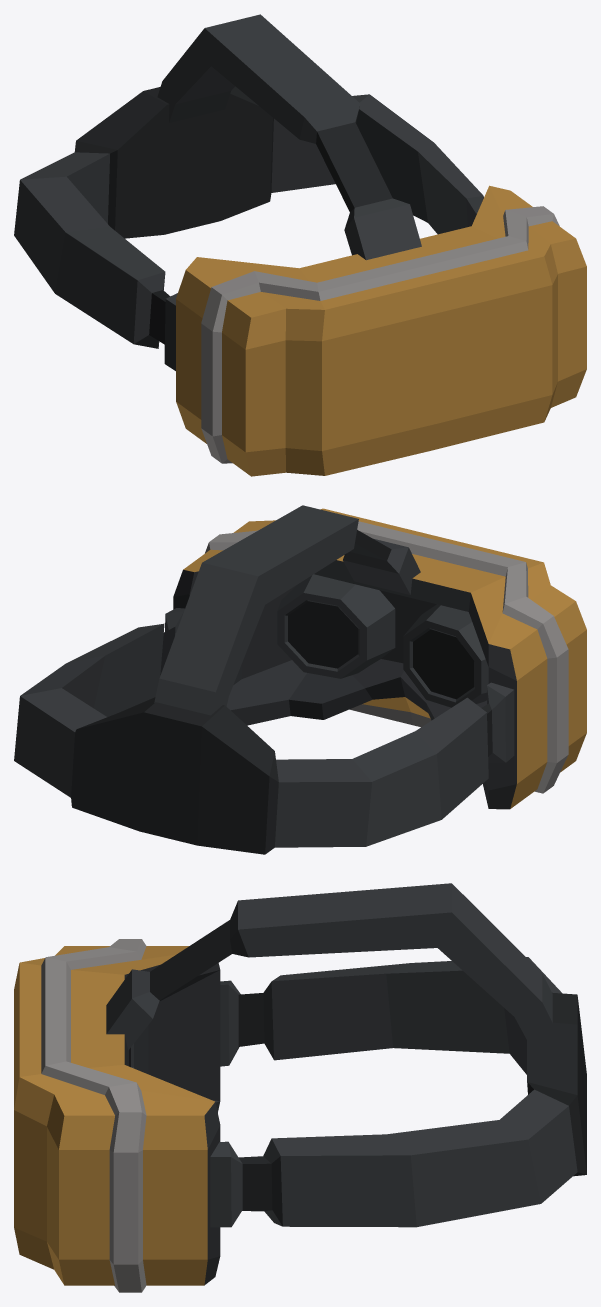
File: SM_Prop_VR_Headset_01.fbx
3 renders of one model, top to bottom at view 1: azimuth 30°, elevation 25°; view 2: azimuth 150°, elevation 25°; view 3: azimuth 270°, elevation 25°, orthographic. The views are drawn at different scales.
Parts seen in each view (by area): view 1: SM_Prop_VR_Headset_01; view 2: SM_Prop_VR_Headset_01; view 3: SM_Prop_VR_Headset_01.
Part boxes in pixels (bbox=[...]): SM_Prop_VR_Headset_01: bbox=[14, 14, 586, 476]; SM_Prop_VR_Headset_01: bbox=[14, 505, 586, 854]; SM_Prop_VR_Headset_01: bbox=[14, 883, 586, 1292].
Bounding box in the file's own units: 27.49 × 19.72 × 32.9.
